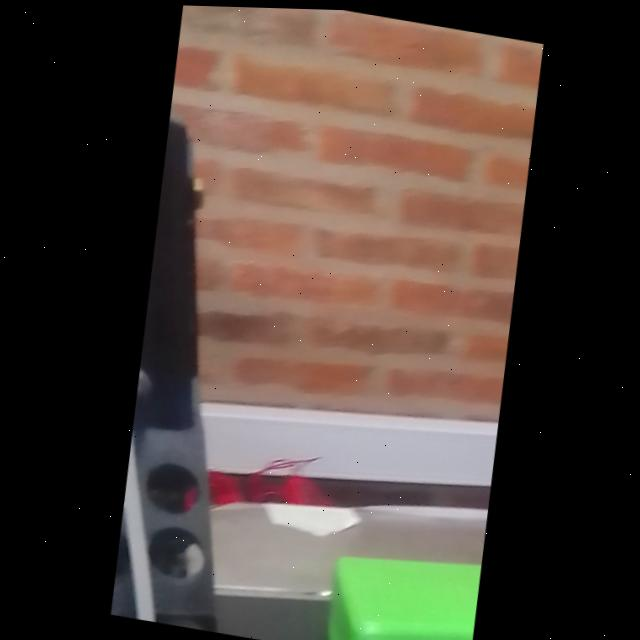greenBox: (308, 528, 481, 640)
